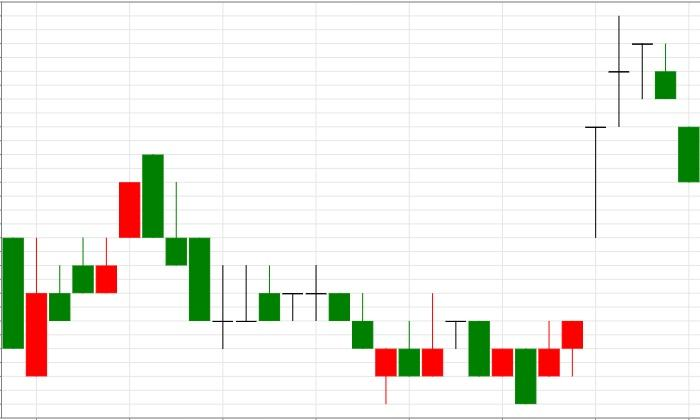bearish_engulfing_fall: (25, 155, 164, 376)
